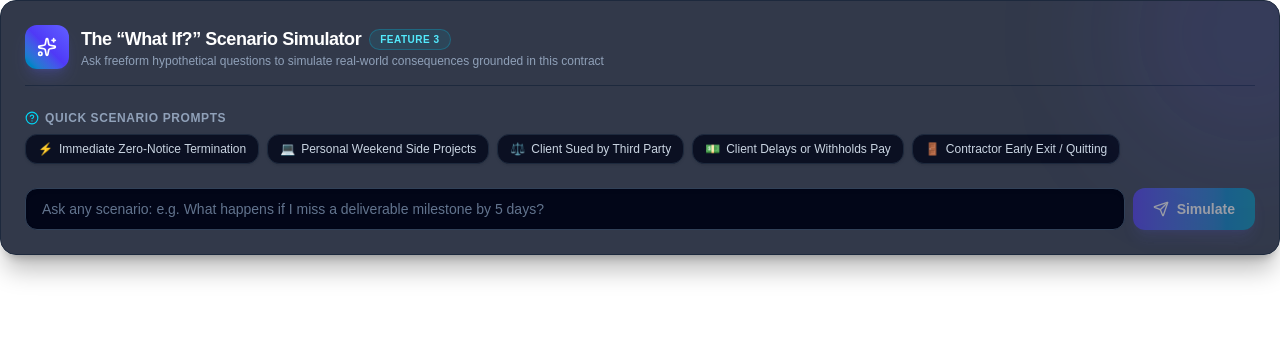
Test: ScenarioSimulator Component › displays error message if simulation fails
Replace the text in the field with placeholder "Ask any scenario" with "What if client goes bankrupt?" at coordinates (575, 209), box [25,188,1125,230]
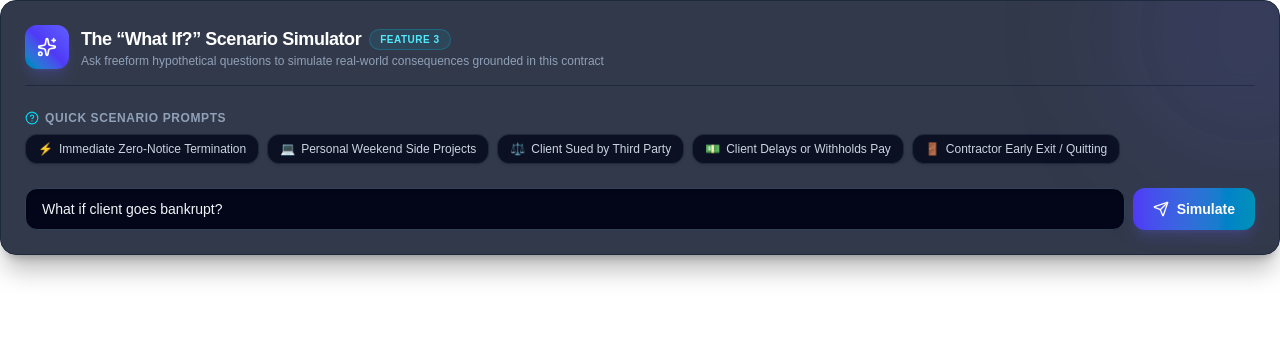
Click the button "Simulate" at coordinates (1194, 209), box [1133,188,1255,230]
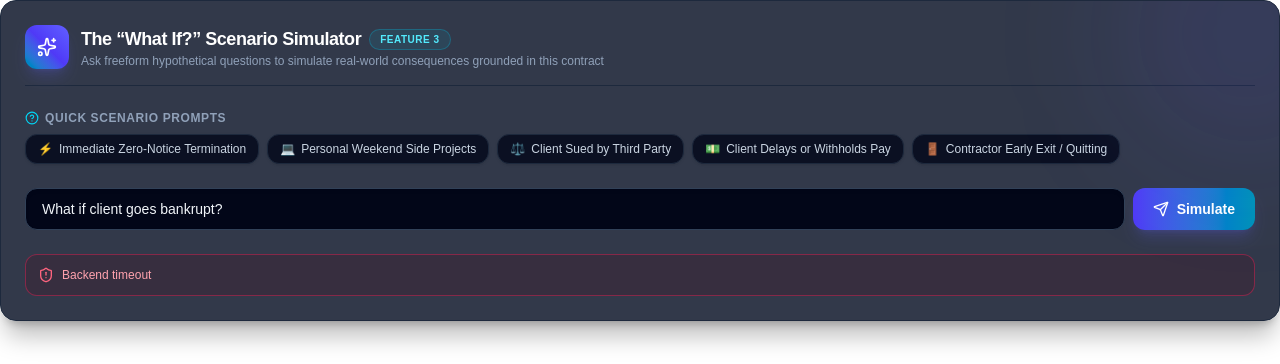
Expected: the text "Backend timeout" is shown, [62,267,151,283]
